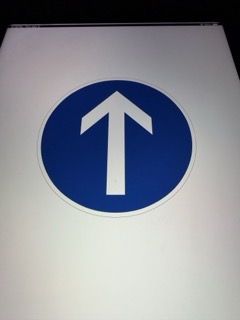GO FORWARD: (39, 75, 201, 219)
